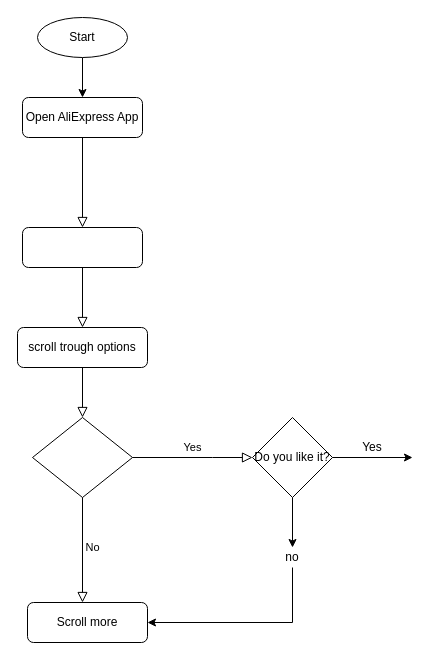
The diagram is 438 pixels wide and 660 high, and some of its shapes have lost their labels. Here are the shapes that lost their labels. From the top down, the centre of each, then its label:
At (x=82, y=247): "browse in the search bar".
At (x=82, y=457): "Do you find something ?".
